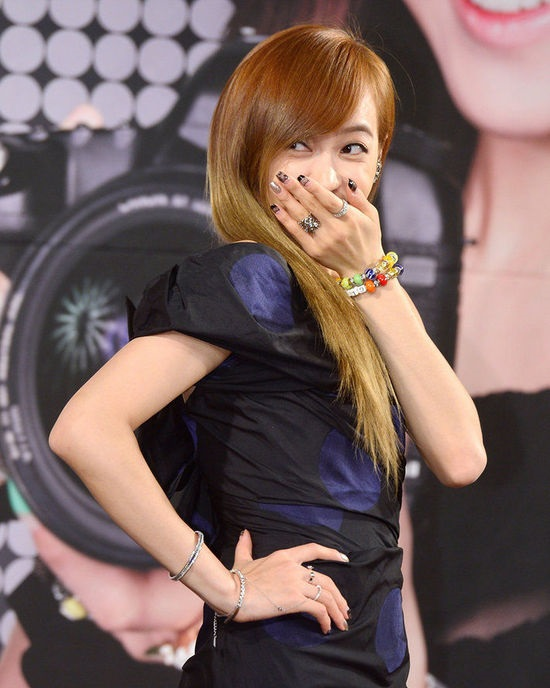face: (261, 78, 378, 251)
